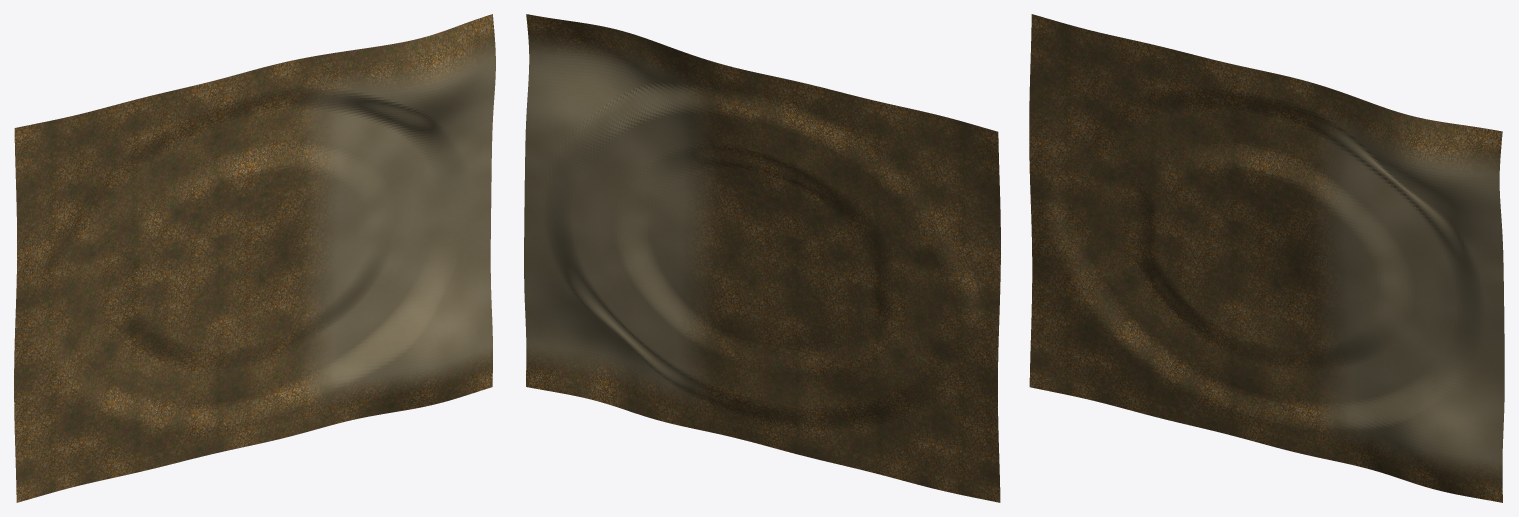
File: terrain.obj
3 views of the same model, side by side, from view 1: azimuth 30°, elevation 25°; view 2: azimuth 150°, elevation 25°; view 3: azimuth 330°, elevation 25° (orthographic).
Visible parts, largest first — view 1: terrain; view 2: terrain; view 3: terrain.
Part boxes in pixels (x1,y1,x2,y2): terrain: [14, 14, 495, 502]; terrain: [524, 14, 1000, 502]; terrain: [1029, 14, 1504, 502].
Bounding box in the file's own units: 80 × 60 × 5.96.
